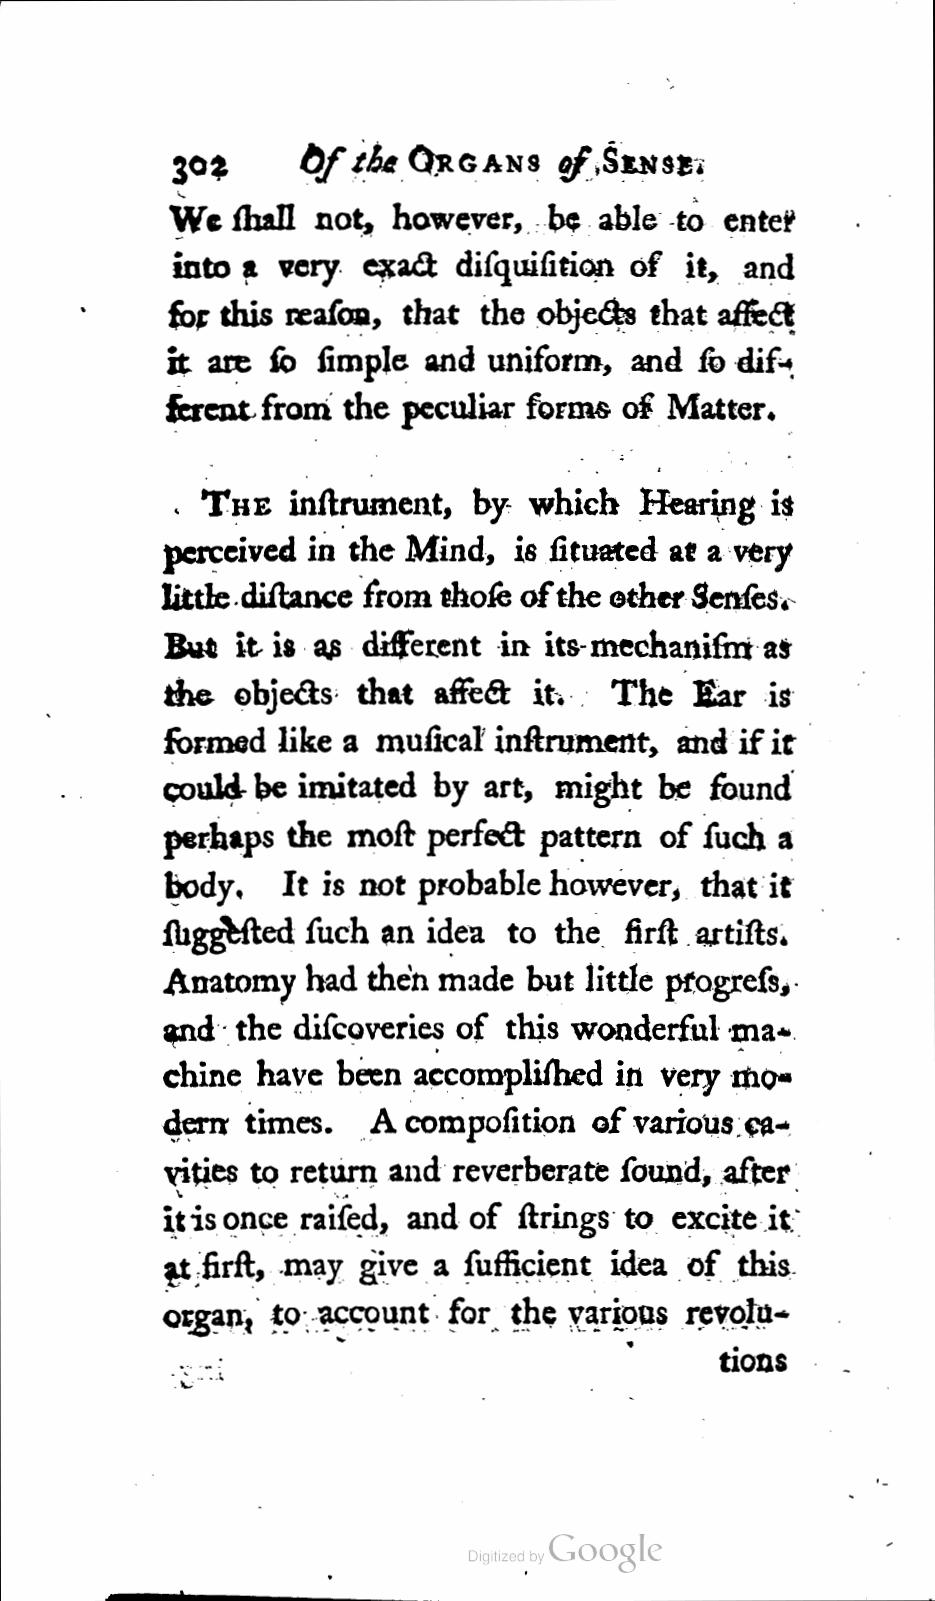bottom_p: (163, 196, 803, 429)
catchword: (703, 1332, 796, 1380)
header: (292, 136, 713, 184)
page_num: (173, 148, 228, 190)
top_p: (154, 488, 798, 1334)
